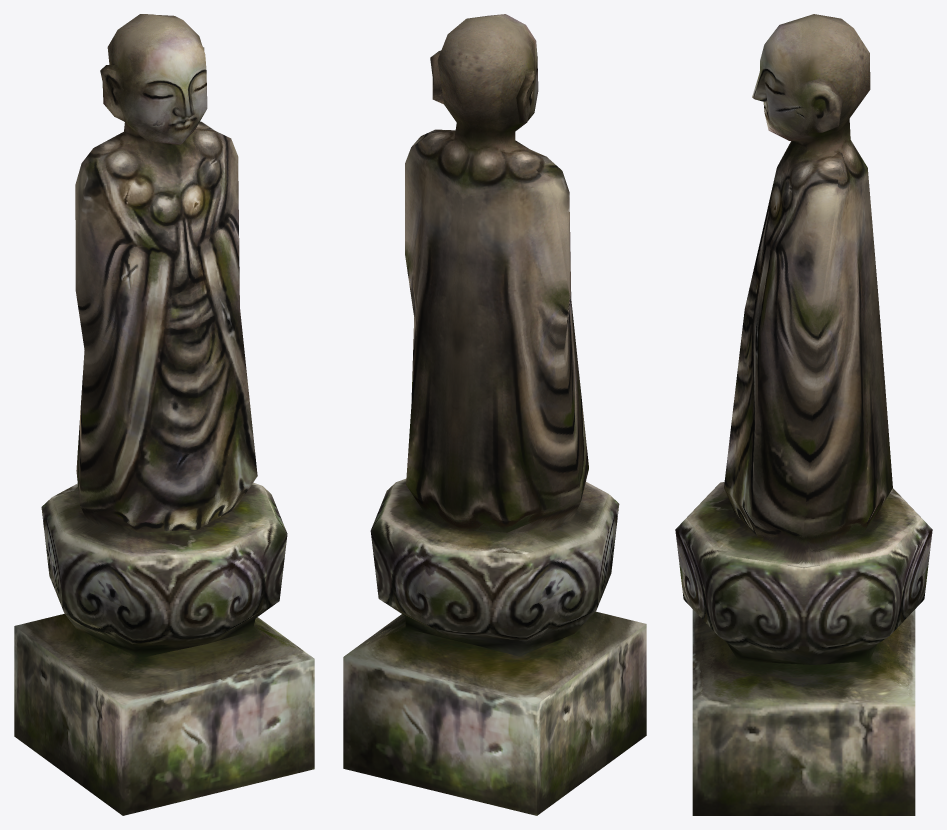
The model's file is PRP_GraveStatueC.FBX.
The picture shows the model from 3 angles, left to right: view 1: azimuth 30°, elevation 25°; view 2: azimuth 150°, elevation 25°; view 3: azimuth 270°, elevation 25°; orthographic projection. The views are drawn at different scales.
Parts seen in each view (by area): view 1: PRP_GraveStatueC; view 2: PRP_GraveStatueC; view 3: PRP_GraveStatueC.
Part boxes in pixels (x1,y1,x2,y2): PRP_GraveStatueC: (14,14,314,815); PRP_GraveStatueC: (343,14,646,815); PRP_GraveStatueC: (675,14,932,815).
Bounding box in the file's own units: 112 × 363 × 113.
